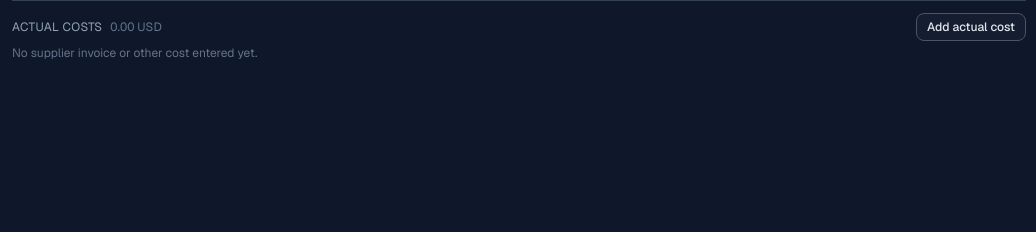
Test: actual costs at a two-currency plant › lets the cost be entered in the local currency
The image size is (1036, 232).
Later steps or results of the test are not shown.
Click the button with test id "actual-cost-open".
click(971, 27)  # box [916,13,1026,41]
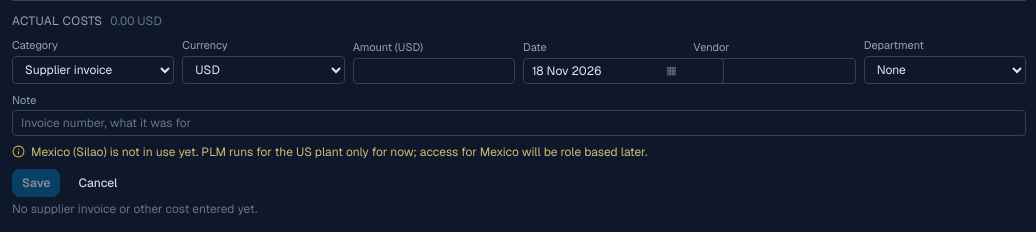
Expected: the dropdown with test id "actual-cost-currency" is shown
Select "MXN" in the dropdown with test id "actual-cost-currency" at (263, 70), box [182,56,345,84]
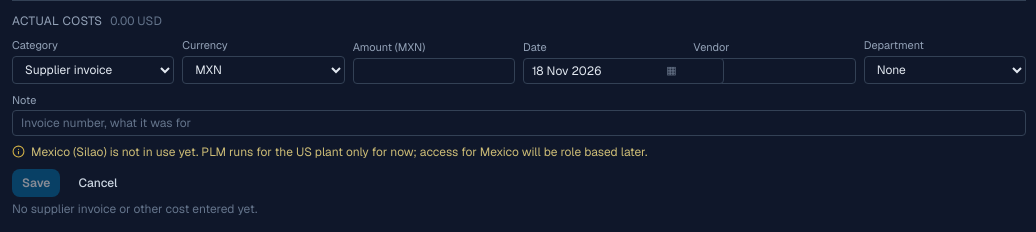
Expected: the text "Amount (MXN)" is shown, [353,39,515,84]
